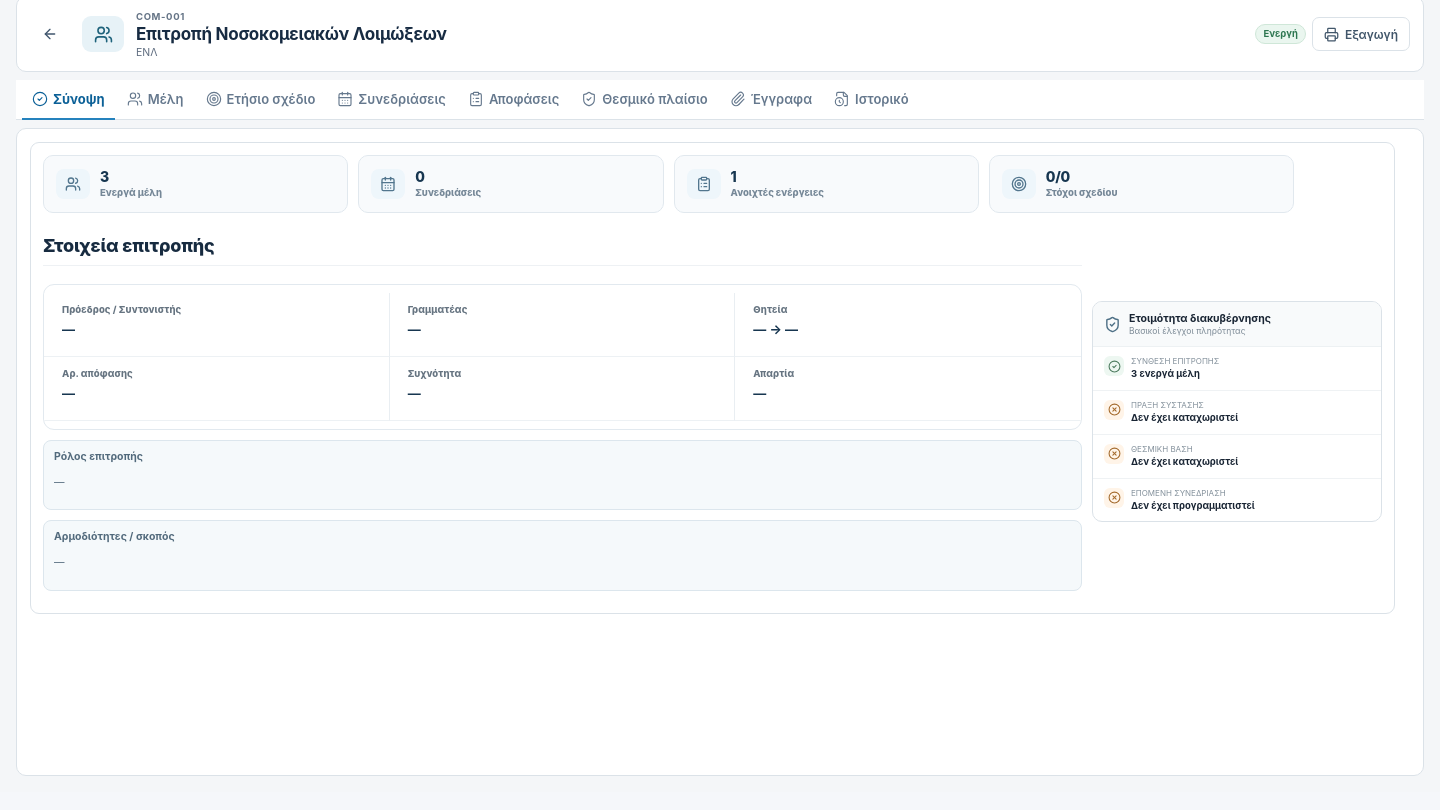
committee record: institutional framework › keeps framework edits away from the committee secretariat
Click the tab "Θεσμικό πλαίσιο" at (645, 100), box [571,80,718,120]
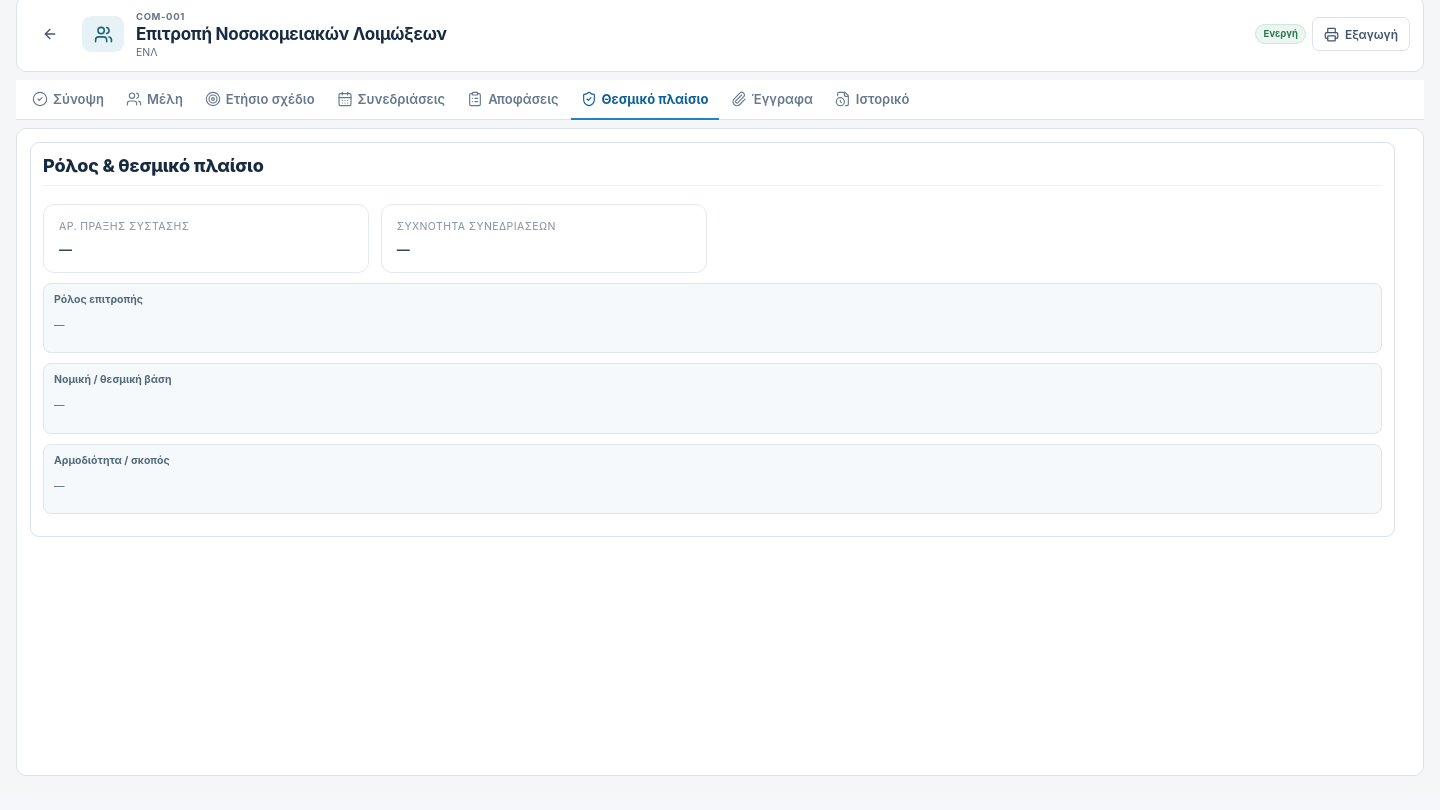
Expected: the text "ενέργειες" is gone
